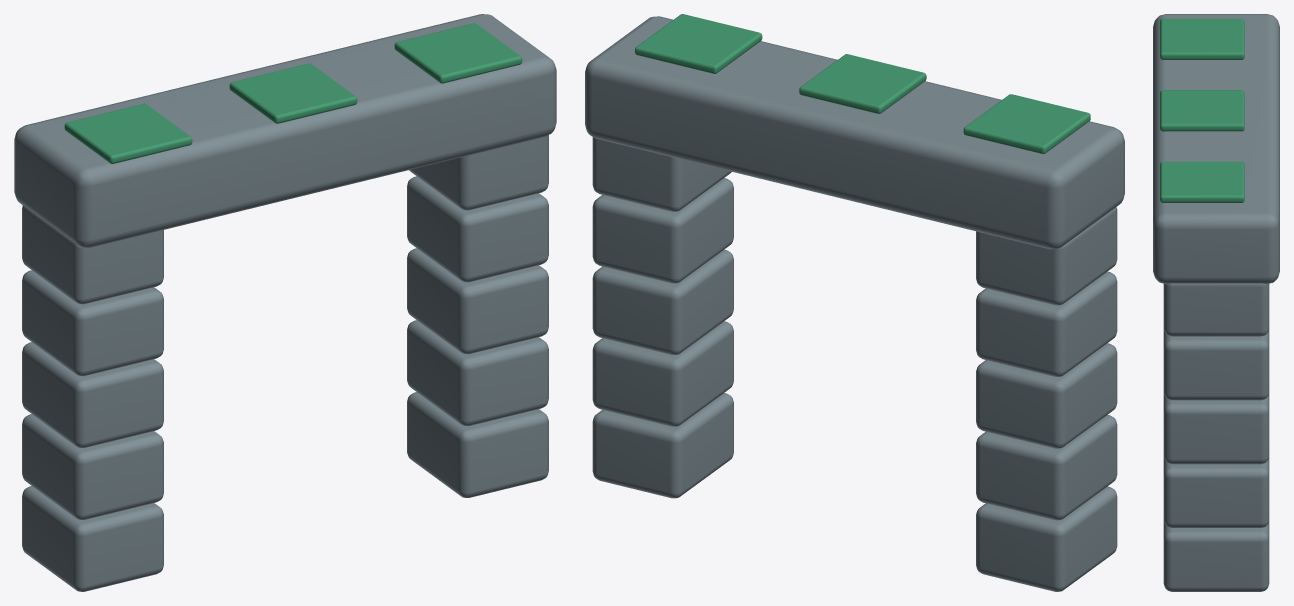
The model's file is Ruins_arch.glb.
The picture shows the model from 3 angles, left to right: view 1: azimuth 30°, elevation 25°; view 2: azimuth 150°, elevation 25°; view 3: azimuth 270°, elevation 25°; orthographic projection. The views are drawn at different scales.
Visible parts, largest first — view 1: Lintel, Ancient block, Ancient block.001, Ancient block.003, Ancient block.007, Ancient block.005, Ancient block.002, Ancient block.008, Ancient block.006, Ancient block.004, Ancient block.009, Moss (+2 smaller); view 2: Lintel, Ancient block.001, Ancient block.006, Ancient block.003, Ancient block.008, Ancient block.002, Ancient block, Ancient block.005, Ancient block.007, Ancient block.004, Ancient block.009, Moss (+2 smaller); view 3: Lintel, Ancient block.007, Ancient block.008, Ancient block.005, Ancient block.006, Ancient block.009, Moss.001, Moss, Moss.002.
Boxes of the visible parts, <box> form: Lintel: <box>14,14,556,247</box>; Ancient block: <box>22,486,163,591</box>; Ancient block.001: <box>22,414,163,519</box>; Ancient block.003: <box>22,270,163,376</box>; Ancient block.007: <box>407,248,548,354</box>; Ancient block.005: <box>407,392,548,497</box>; Ancient block.002: <box>22,342,163,447</box>; Ancient block.008: <box>407,176,548,282</box>; Ancient block.006: <box>407,320,548,425</box>; Ancient block.004: <box>22,205,163,304</box>; Ancient block.009: <box>409,135,548,210</box>; Moss: <box>64,103,192,163</box>; Lintel: <box>585,16,1124,249</box>; Ancient block.001: <box>976,414,1117,520</box>; Ancient block.006: <box>592,321,733,426</box>; Ancient block.003: <box>976,271,1117,376</box>; Ancient block.008: <box>592,178,733,283</box>; Ancient block.002: <box>976,343,1117,448</box>; Ancient block: <box>976,486,1117,591</box>; Ancient block.005: <box>592,393,733,498</box>; Ancient block.007: <box>592,249,733,355</box>; Ancient block.004: <box>976,207,1117,305</box>; Ancient block.009: <box>592,137,731,211</box>; Moss: <box>963,94,1090,153</box>; Lintel: <box>1153,14,1279,284</box>; Ancient block.007: <box>1163,393,1269,464</box>; Ancient block.008: <box>1163,329,1269,400</box>; Ancient block.005: <box>1163,520,1269,591</box>; Ancient block.006: <box>1163,456,1269,527</box>; Ancient block.009: <box>1163,283,1269,336</box>; Moss.001: <box>1160,90,1244,131</box>; Moss: <box>1160,18,1244,59</box>; Moss.002: <box>1160,161,1244,202</box>.
Size of the model in its own units: 3.5 by 3.01 by 0.9.
